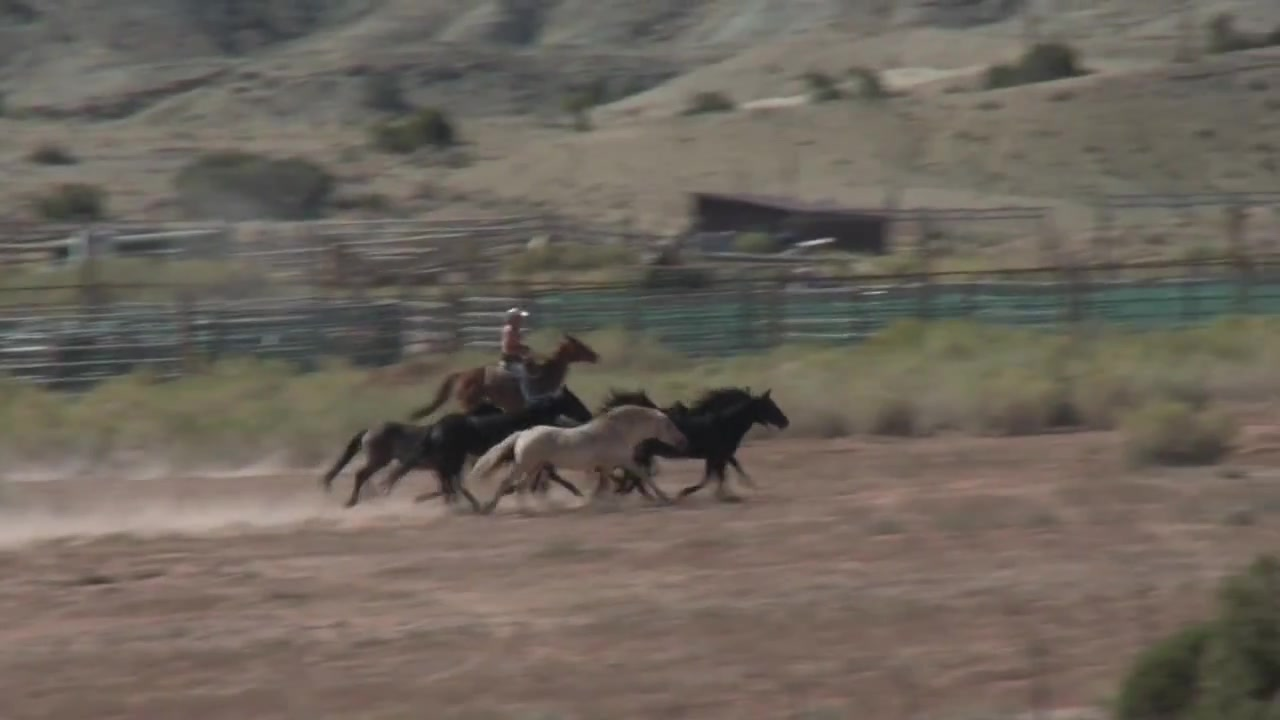horse: (471, 407, 694, 512), (613, 388, 789, 505), (318, 406, 490, 512), (409, 333, 603, 419), (640, 383, 763, 495), (450, 387, 595, 457), (599, 381, 669, 498)
